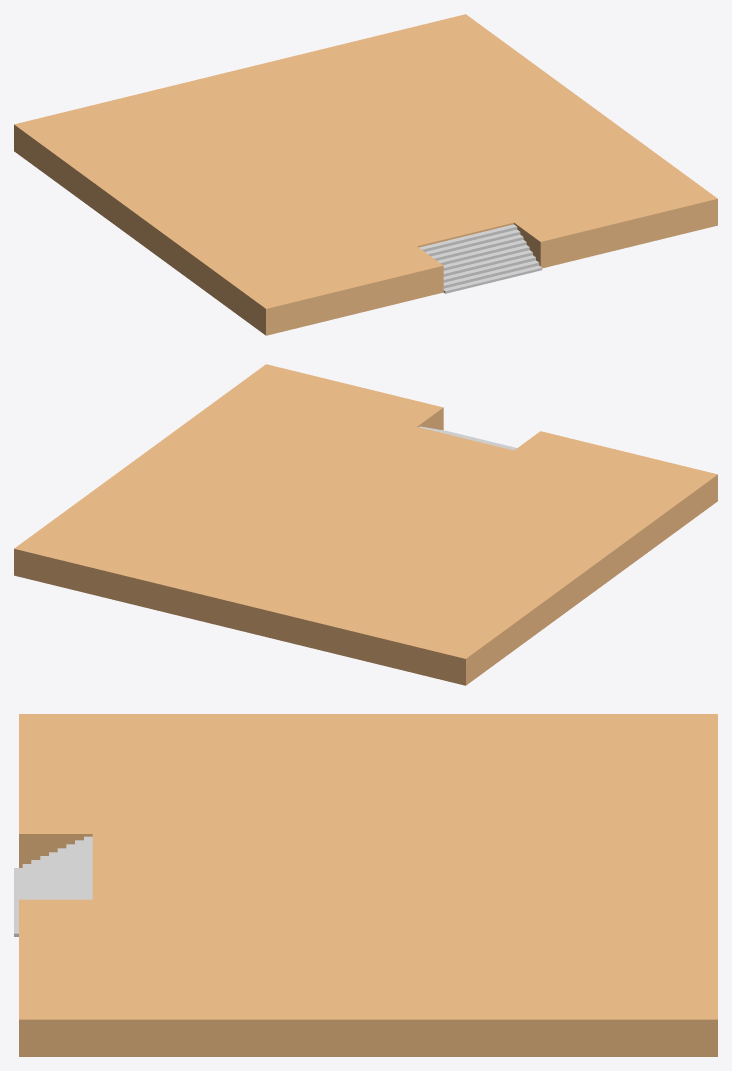
The model's file is step up.fbx.
3 views of the same model, one above another, from view 1: azimuth 30°, elevation 25°; view 2: azimuth 150°, elevation 25°; view 3: azimuth 270°, elevation 25° (orthographic). The views are drawn at different scales.
Parts seen in each view (by area): view 1: Cube; view 2: Cube; view 3: Cube.
Part boxes in pixels (left/top/right/bottom): Cube: left=14, top=14, right=717, bottom=335; Cube: left=14, top=364, right=717, bottom=685; Cube: left=14, top=714, right=717, bottom=1056.
Bounding box in the file's own units: 310 × 17.62 × 302.
